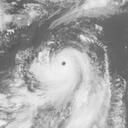cyclone: (30, 46, 90, 94)
